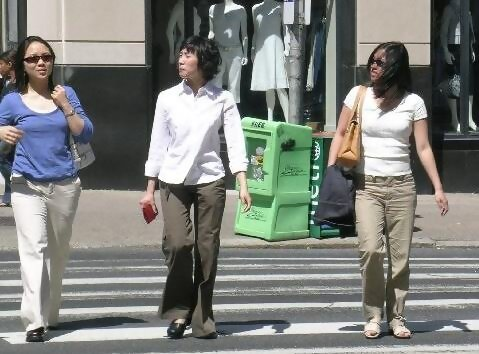person: (136, 36, 250, 348), (332, 42, 451, 338), (1, 34, 95, 343)
